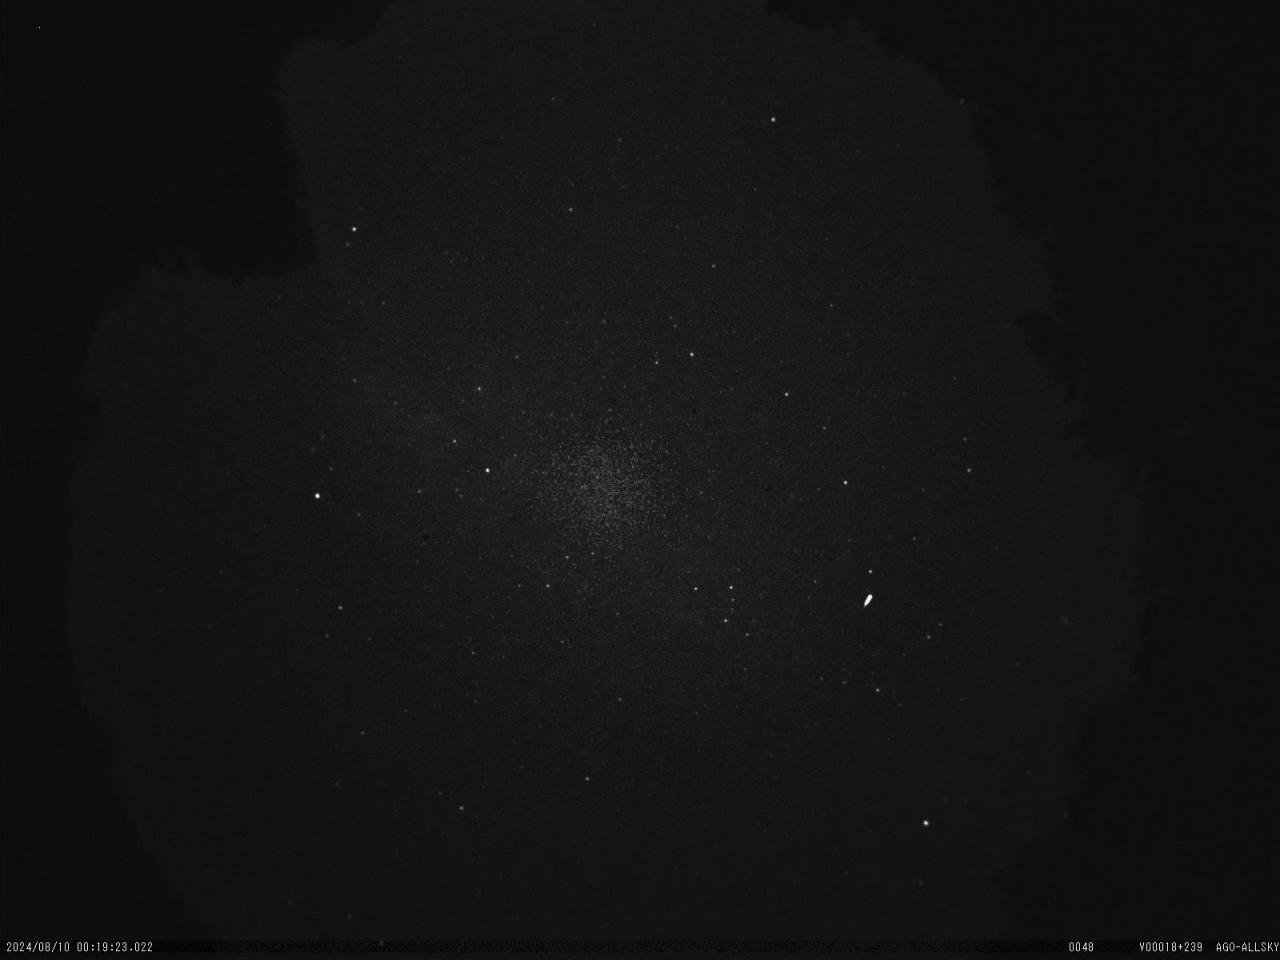Meteor: (857, 589, 880, 614)
